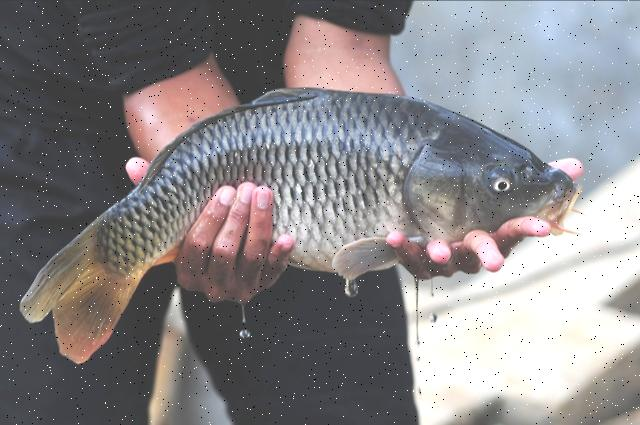Mulut: (543, 161, 595, 247)
Sirip Dada: (322, 230, 403, 294)
Sirip Ekor: (10, 217, 154, 371)
Sirip Punggung: (126, 72, 332, 198)
